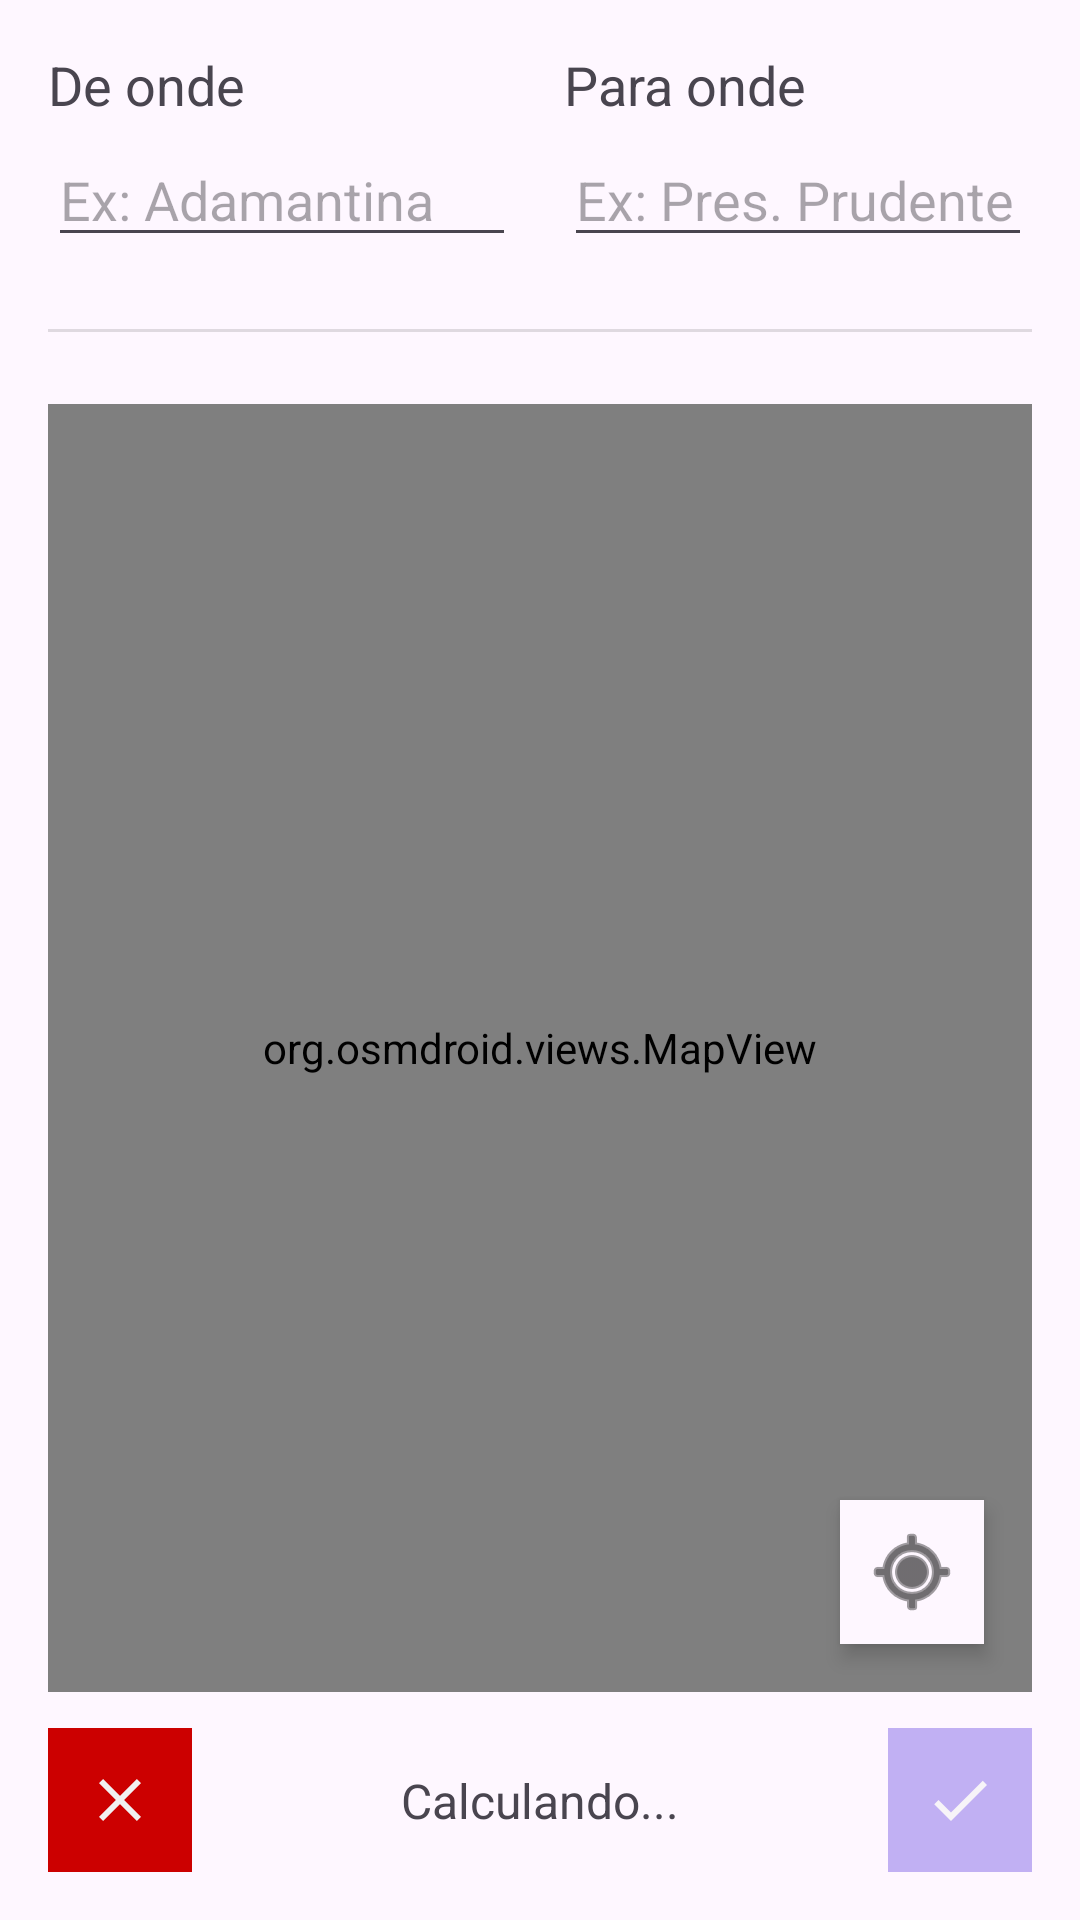

Icon bounding boxes for this 1080 x 1920 phone screenshot, format (x1, y1, x2, y2):
Cancelar: (48, 1728, 192, 1872)
Confirmar: (888, 1728, 1032, 1872)
mylocation: (840, 1500, 984, 1644)
